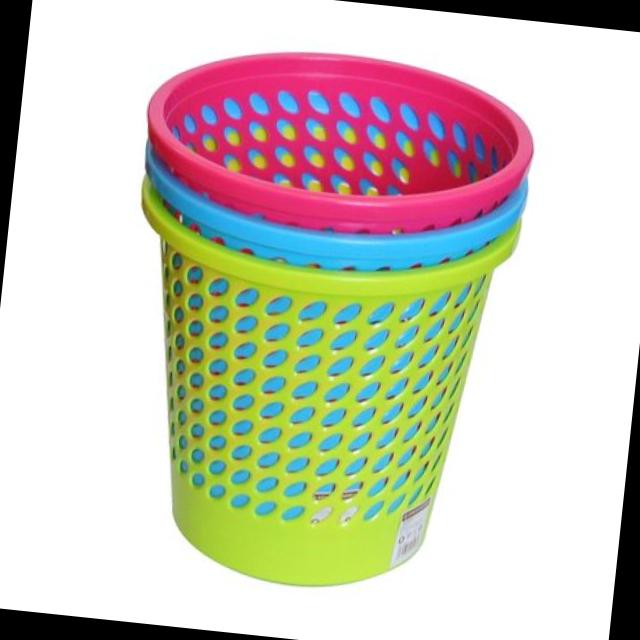dustbin: (92, 22, 550, 613)
